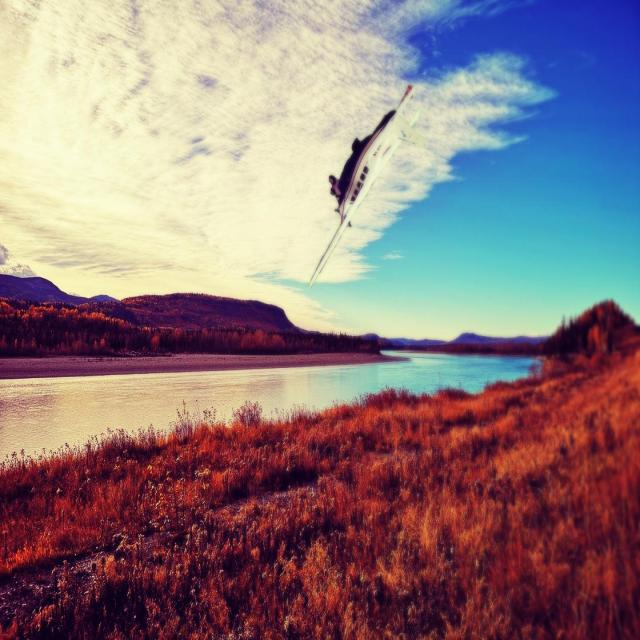airplane: (308, 83, 424, 289)
